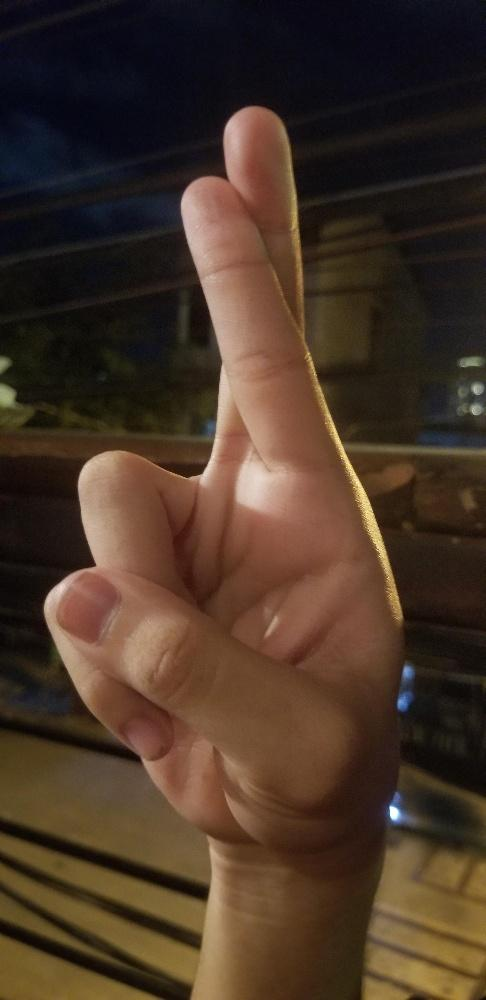r: (33, 95, 407, 858)
